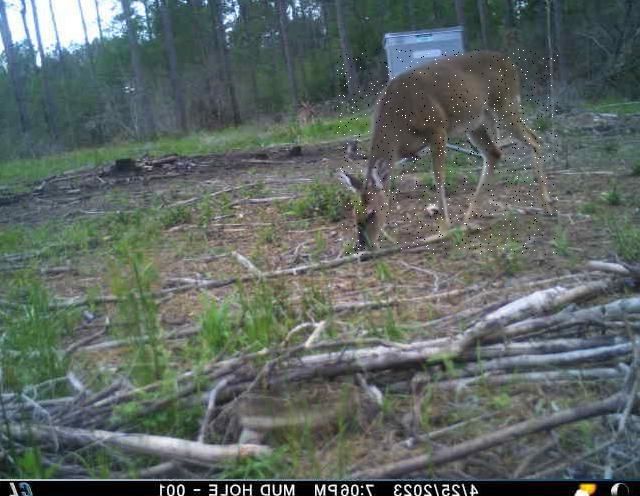Deer: (336, 50, 557, 256)
